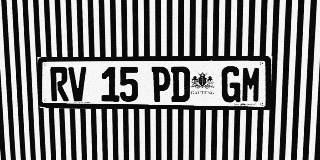1: (101, 67, 119, 102)
5: (120, 67, 138, 102)
D: (171, 66, 190, 102)
G: (221, 66, 241, 102)
M: (241, 66, 262, 103)
P: (152, 67, 170, 102)
R: (50, 67, 69, 101)
V: (68, 67, 87, 101)
